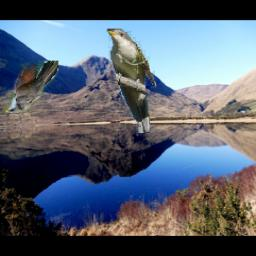Cuckoo: (105, 29, 156, 133), (3, 61, 59, 113)
